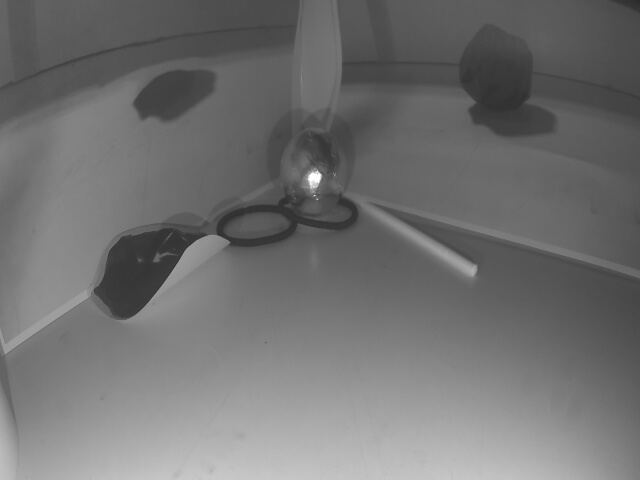Live: (278, 127, 346, 209)
